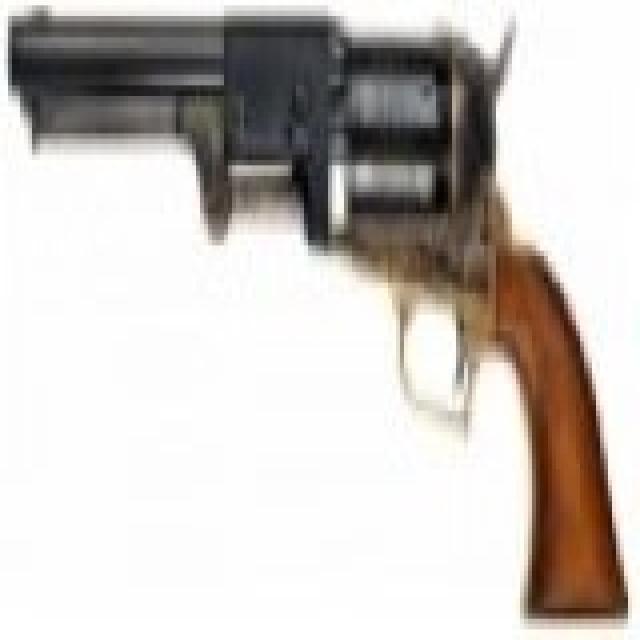Gun: (8, 8, 622, 608)
